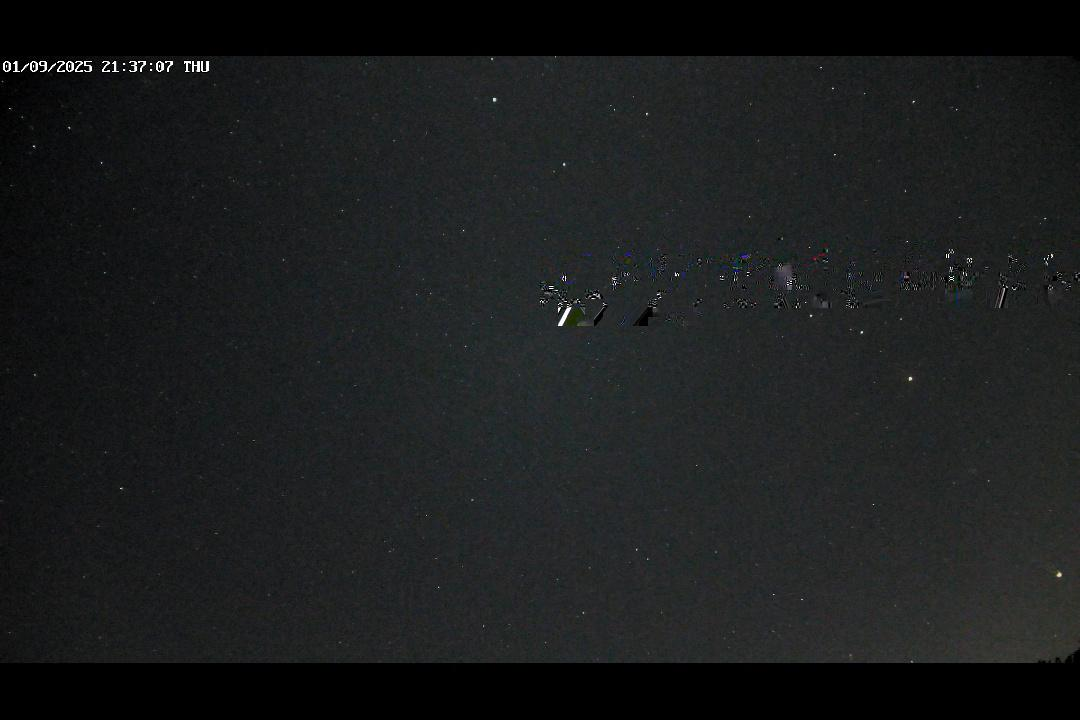Plane: (1034, 555, 1070, 581)
